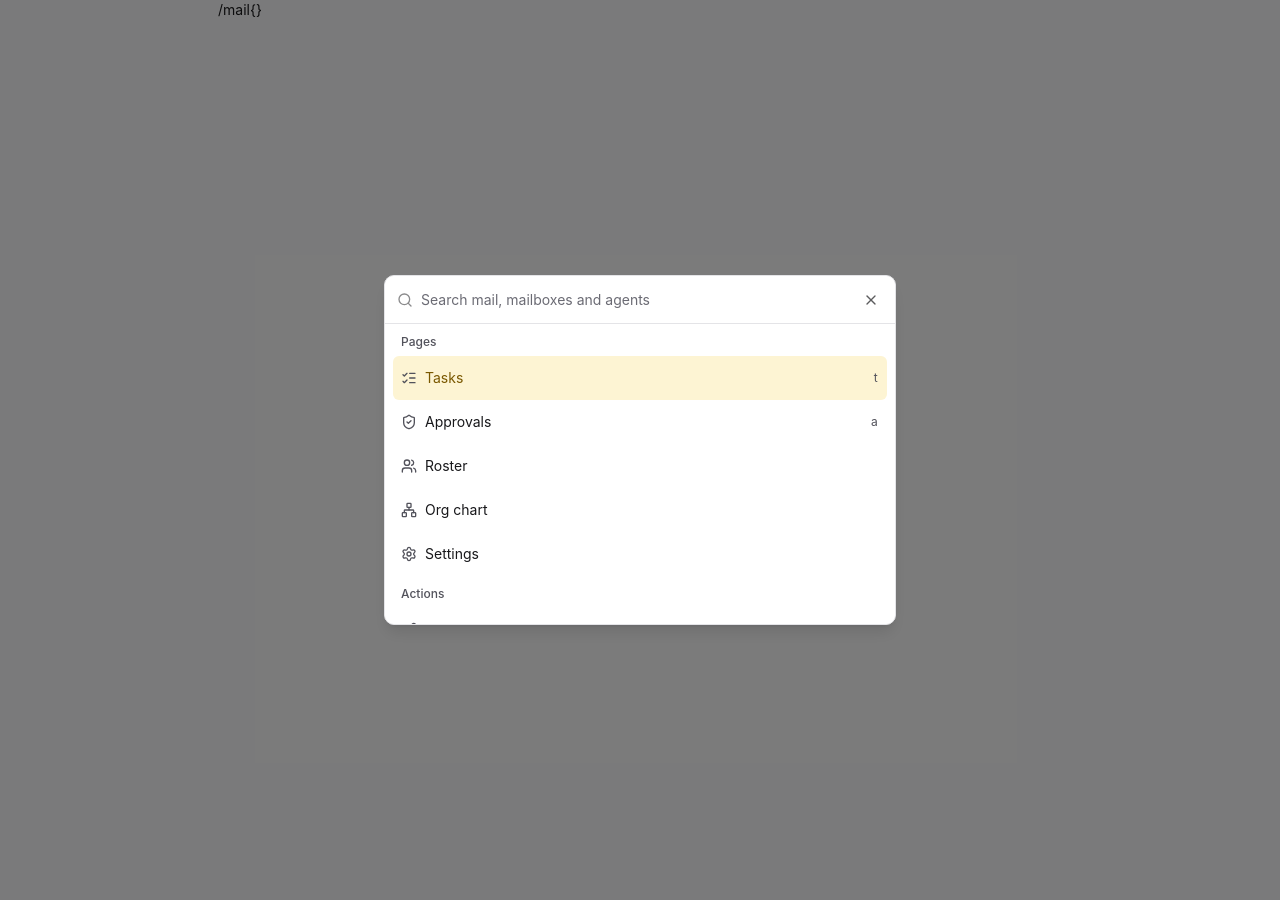
Test case: CommandPalette › searches messages (debounced, global) and opens the thread
Type "deploy" into the dropdown with placeholder "Search mail, mailboxes and agents" at (652, 300), box left=421, top=276, right=883, bottom=324
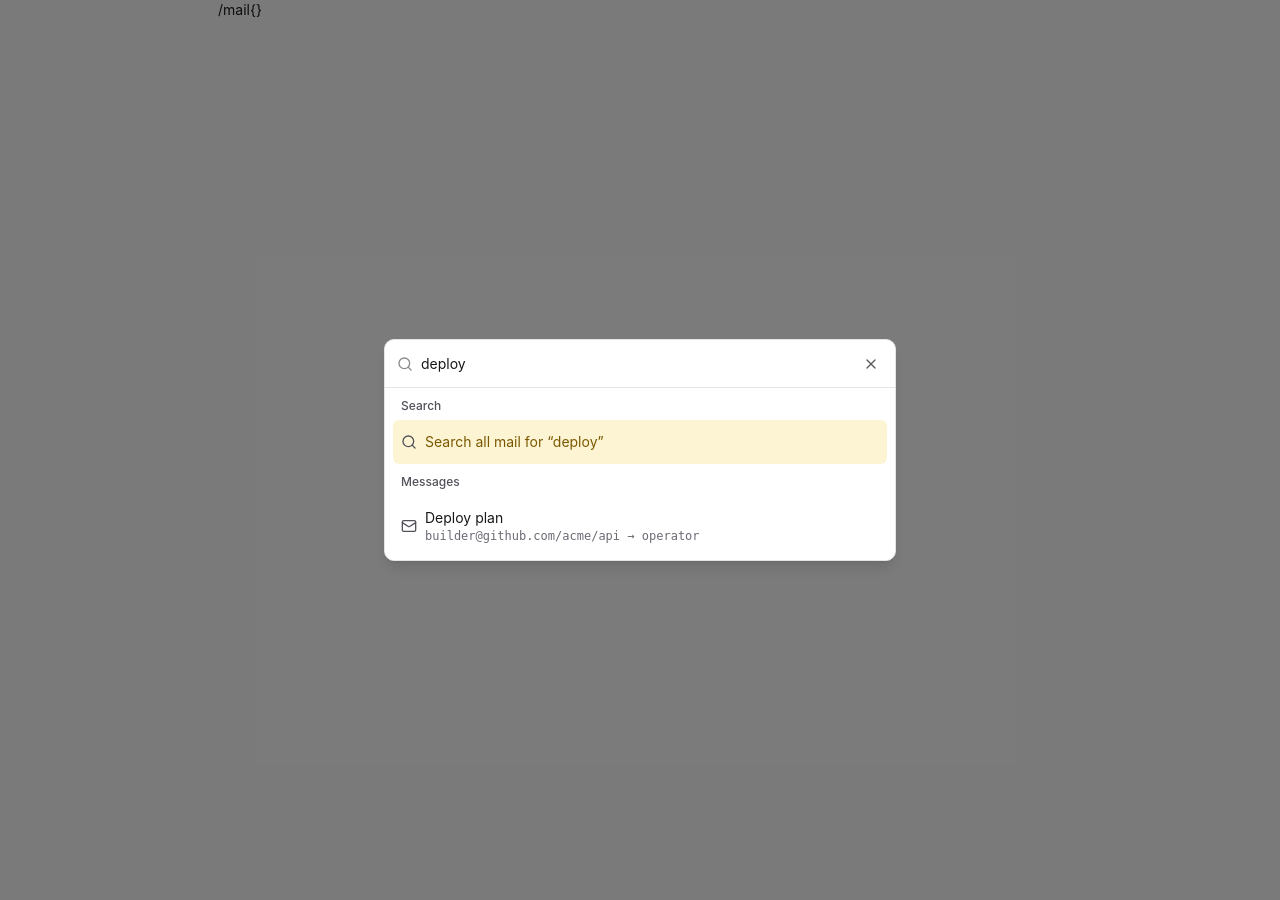
Click the text "Deploy plan" at (464, 518), box left=425, top=509, right=503, bottom=526
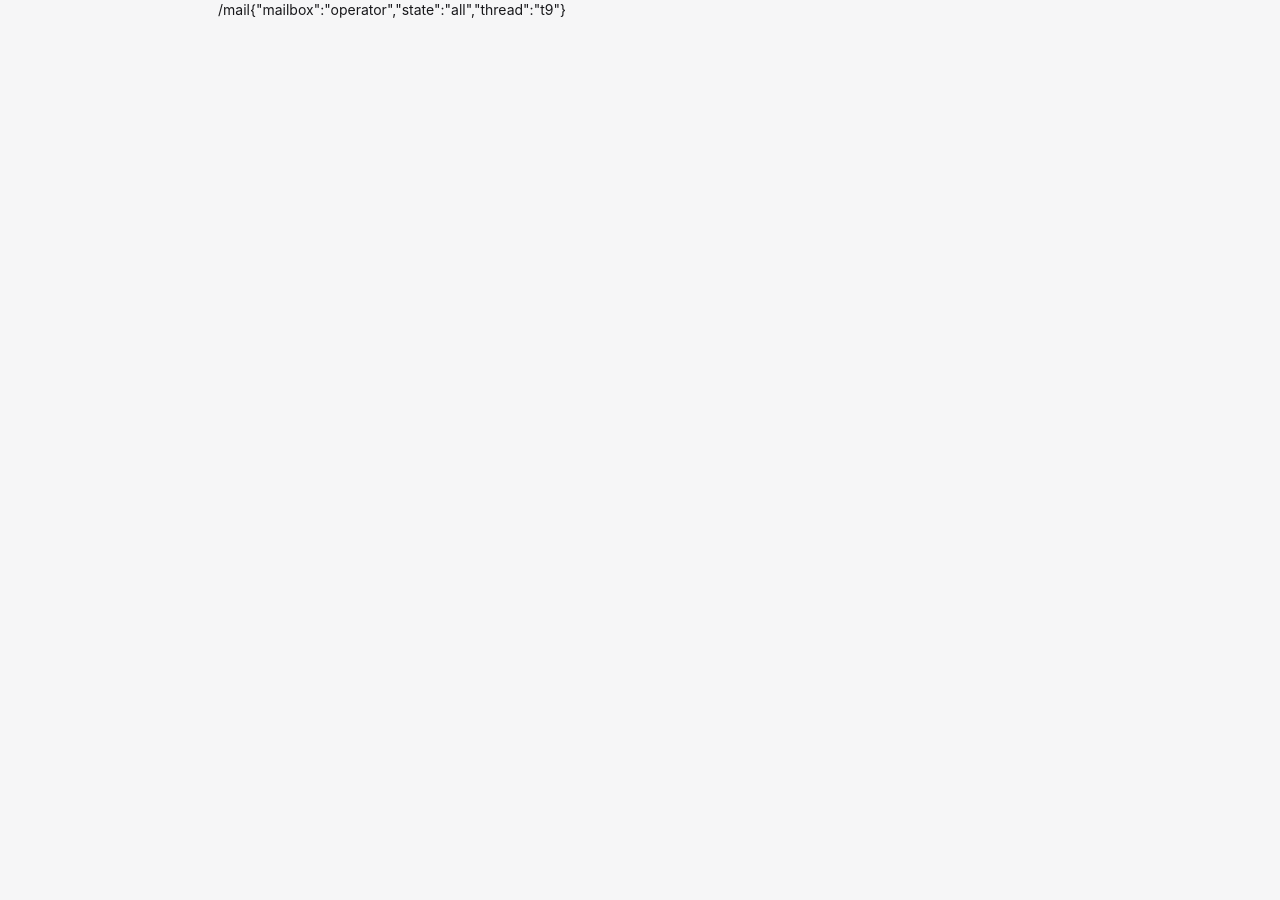
Expected: the text with test id "loc" shows "\"thread\":\"t9\"", left=218, top=1, right=566, bottom=18
Expected: the text with test id "loc" shows "\"mailbox\":\"operator\"", left=218, top=1, right=566, bottom=18
